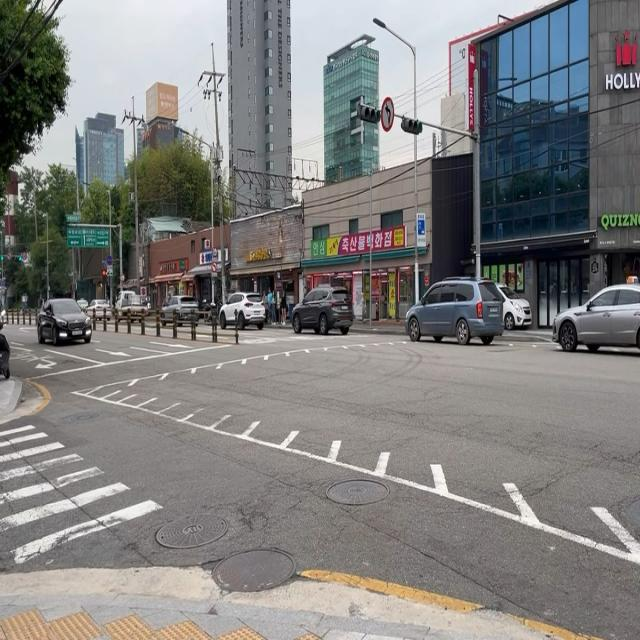building: (456, 0, 640, 329), (226, 0, 292, 220), (62, 95, 140, 228), (322, 33, 380, 185)
car: (402, 260, 510, 349), (552, 281, 640, 352), (291, 285, 354, 335), (36, 297, 92, 346)
